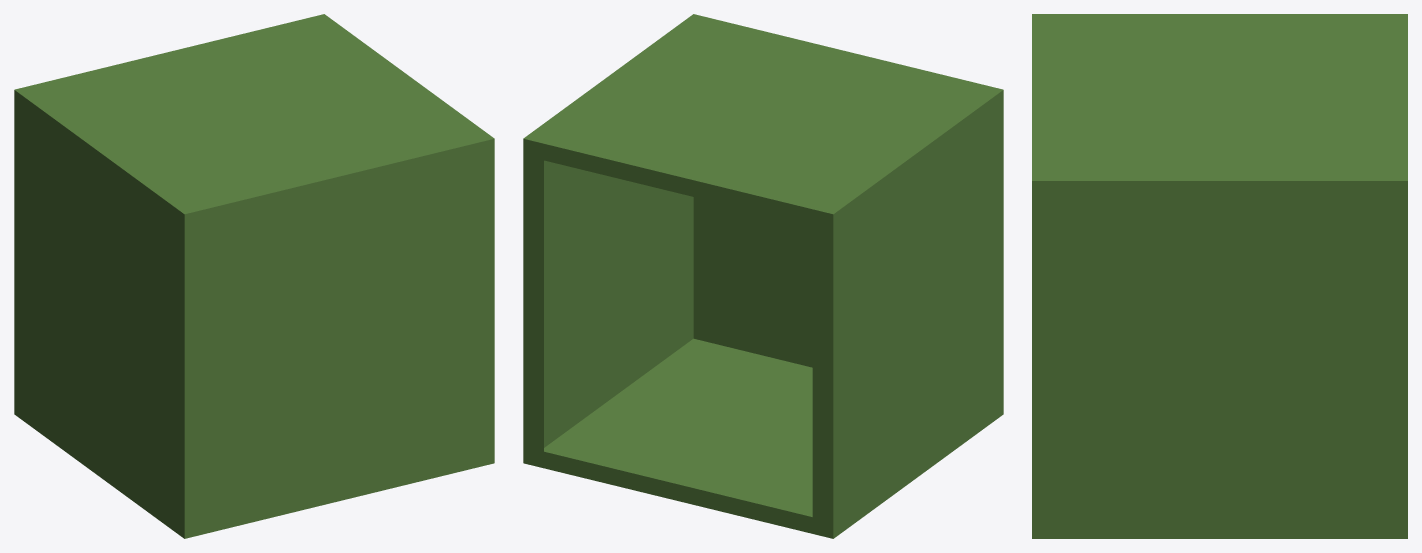
File: PrateleiraCaixa.fbx
3 views of the same model, side by side, from view 1: azimuth 30°, elevation 25°; view 2: azimuth 150°, elevation 25°; view 3: azimuth 270°, elevation 25° (orthographic). The views are drawn at different scales.
Parts seen in each view (by area): view 1: Cube.009; view 2: Cube.009; view 3: Cube.009.
Part boxes in pixels (x1=…): Cube.009: x1=14, y1=14, x2=494, y2=538; Cube.009: x1=523, y1=14, x2=1003, y2=538; Cube.009: x1=1032, y1=14, x2=1407, y2=538.
Size of the model in its own units: 200 by 200 by 190.
